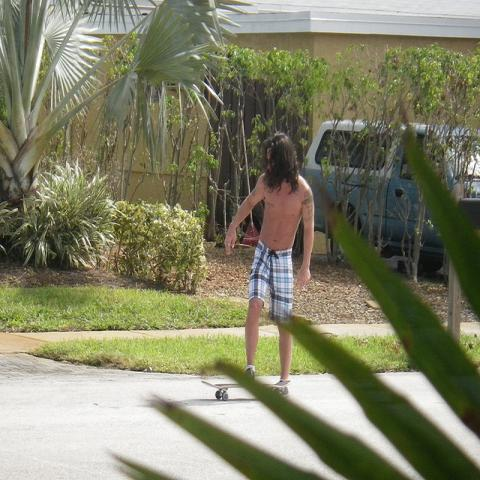truck: (298, 118, 480, 274)
